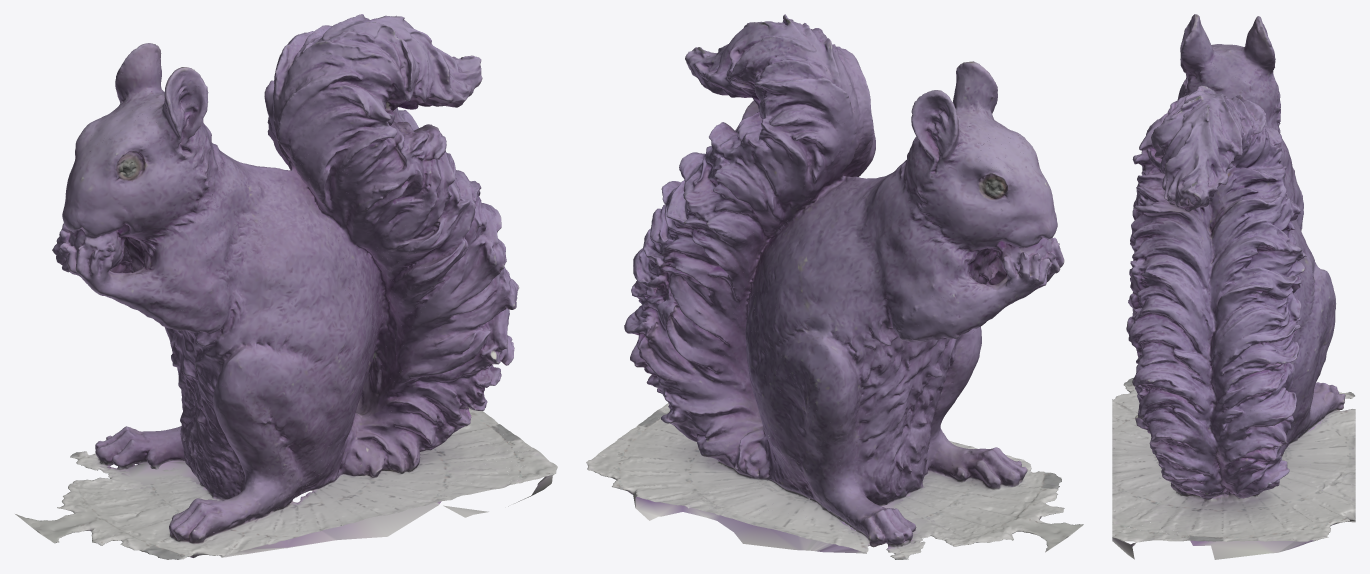
3 views of the same model, side by side, from view 1: azimuth 30°, elevation 25°; view 2: azimuth 150°, elevation 25°; view 3: azimuth 270°, elevation 25° (orthographic). The views are drawn at different scales.
Parts seen in each view (by area): view 1: VioletSquirrel_v0_hipoly_simplified; view 2: VioletSquirrel_v0_hipoly_simplified; view 3: VioletSquirrel_v0_hipoly_simplified.
Part boxes in pixels (x1,y1,x2,y2): VioletSquirrel_v0_hipoly_simplified: [15, 14, 557, 559]; VioletSquirrel_v0_hipoly_simplified: [586, 14, 1083, 559]; VioletSquirrel_v0_hipoly_simplified: [1112, 14, 1355, 559].
Size of the model in its own units: 0.3559 by 0.3519 by 0.1919.
